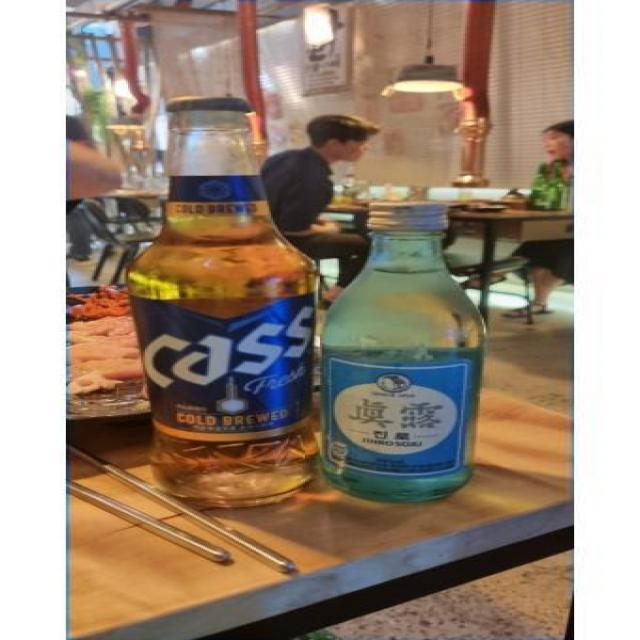beer-bottle: (142, 92, 330, 514)
soju-bottle: (317, 201, 498, 503)
